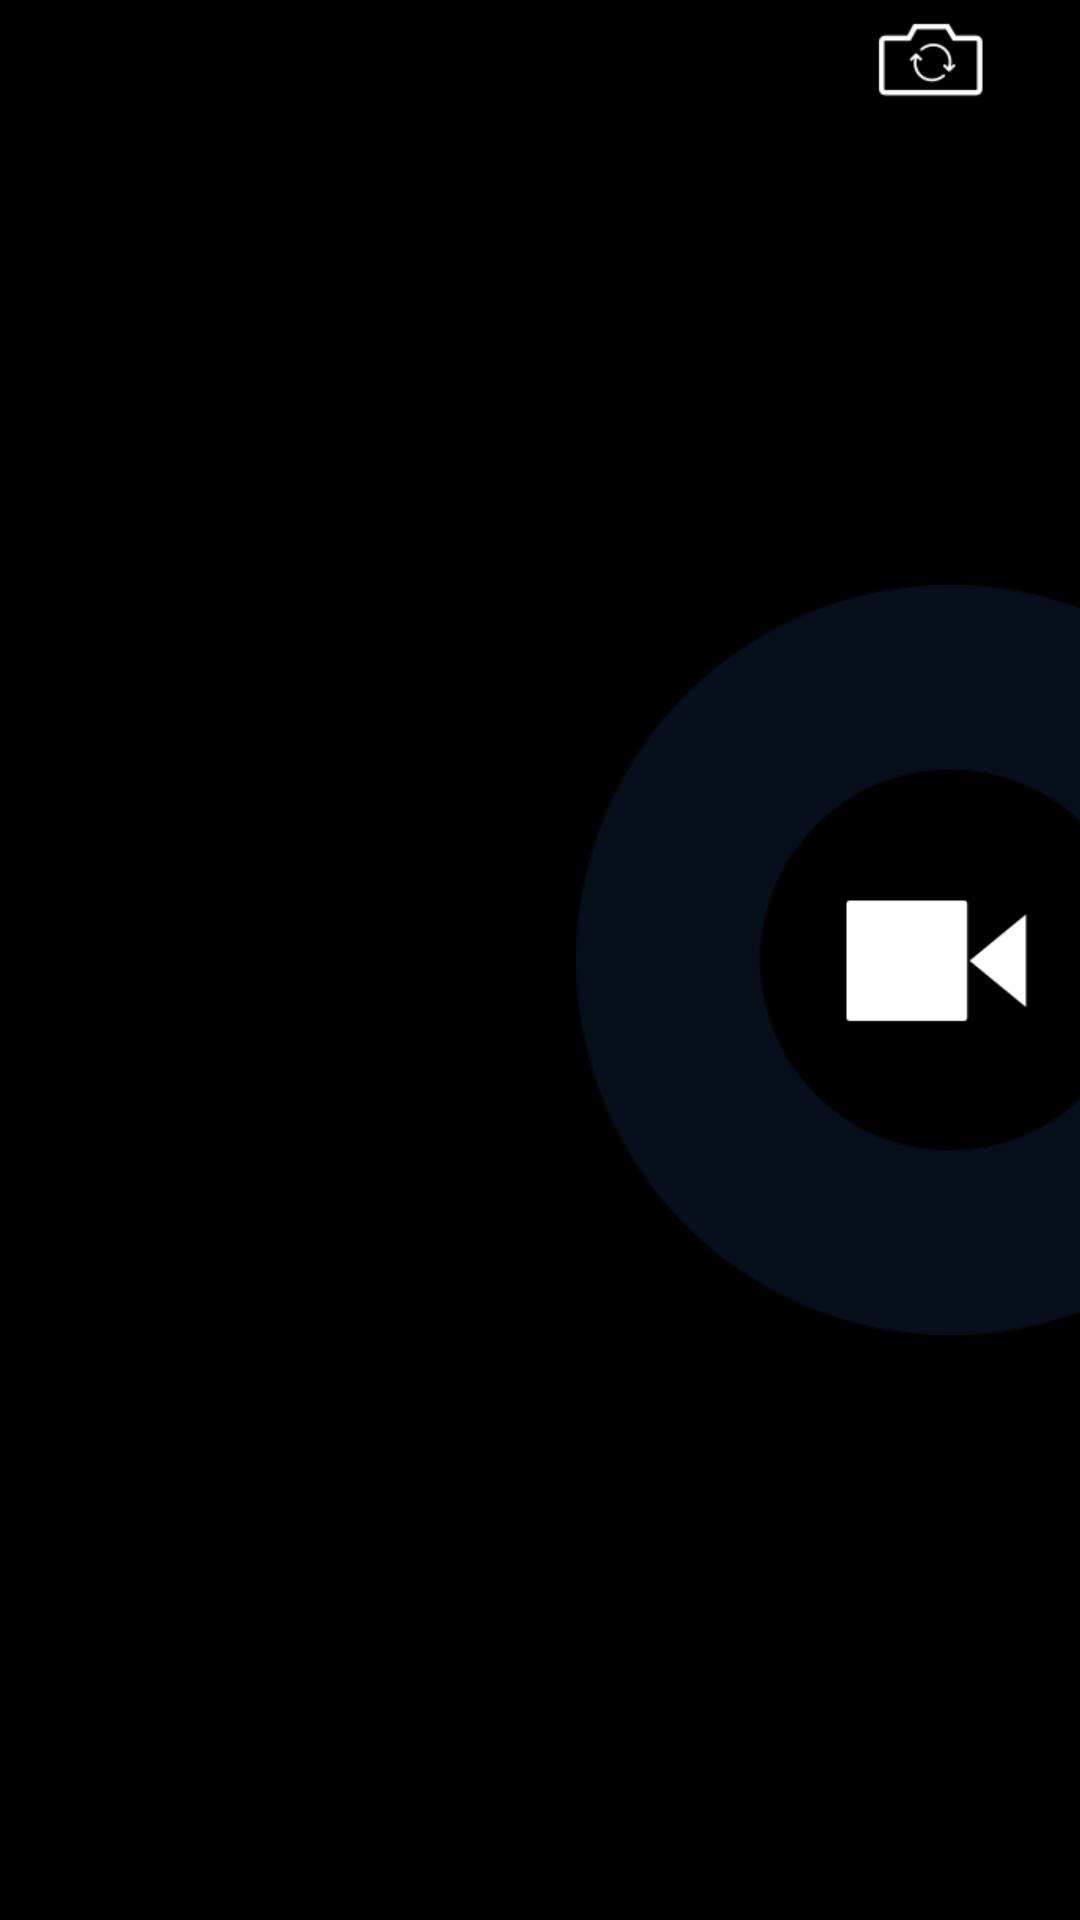

Where icons sit on this 1080 x 1920 app screen, as region(x1, y1, x2, y2):
camera play: region(846, 900, 1027, 1022)
camera switch: region(878, 23, 983, 96)
